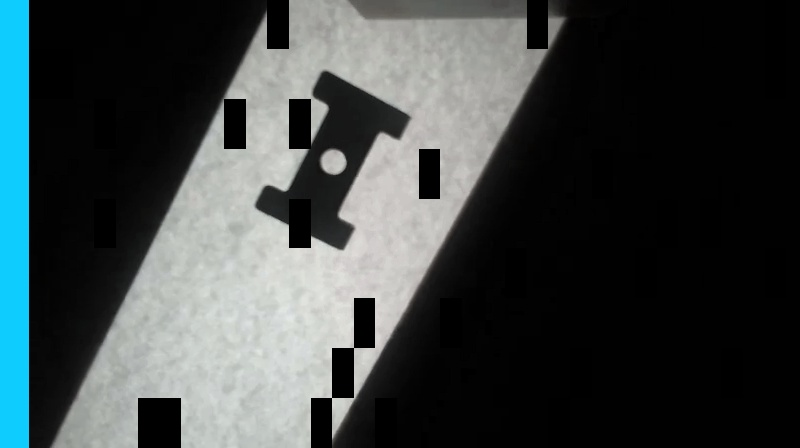O002: (252, 66, 415, 253)
